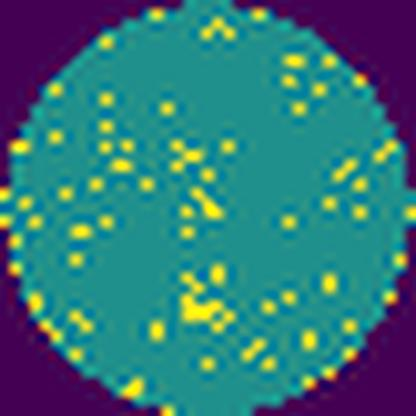Loc: (179, 269, 235, 330)
